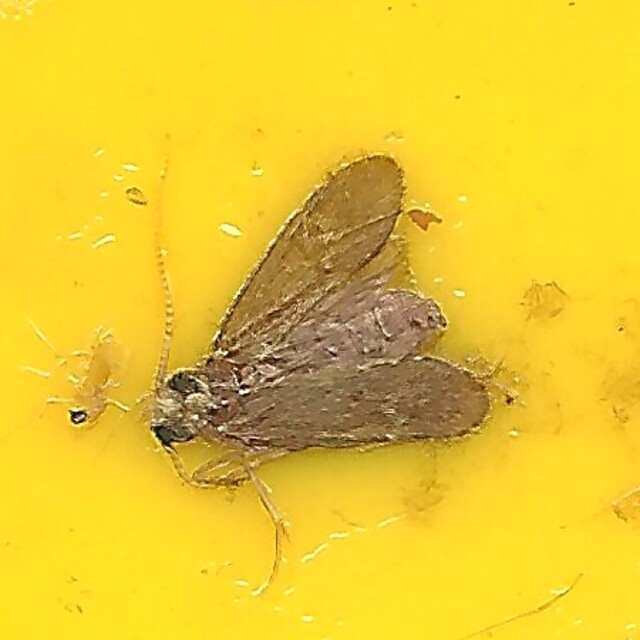Trichoptera: (142, 141, 498, 499)
